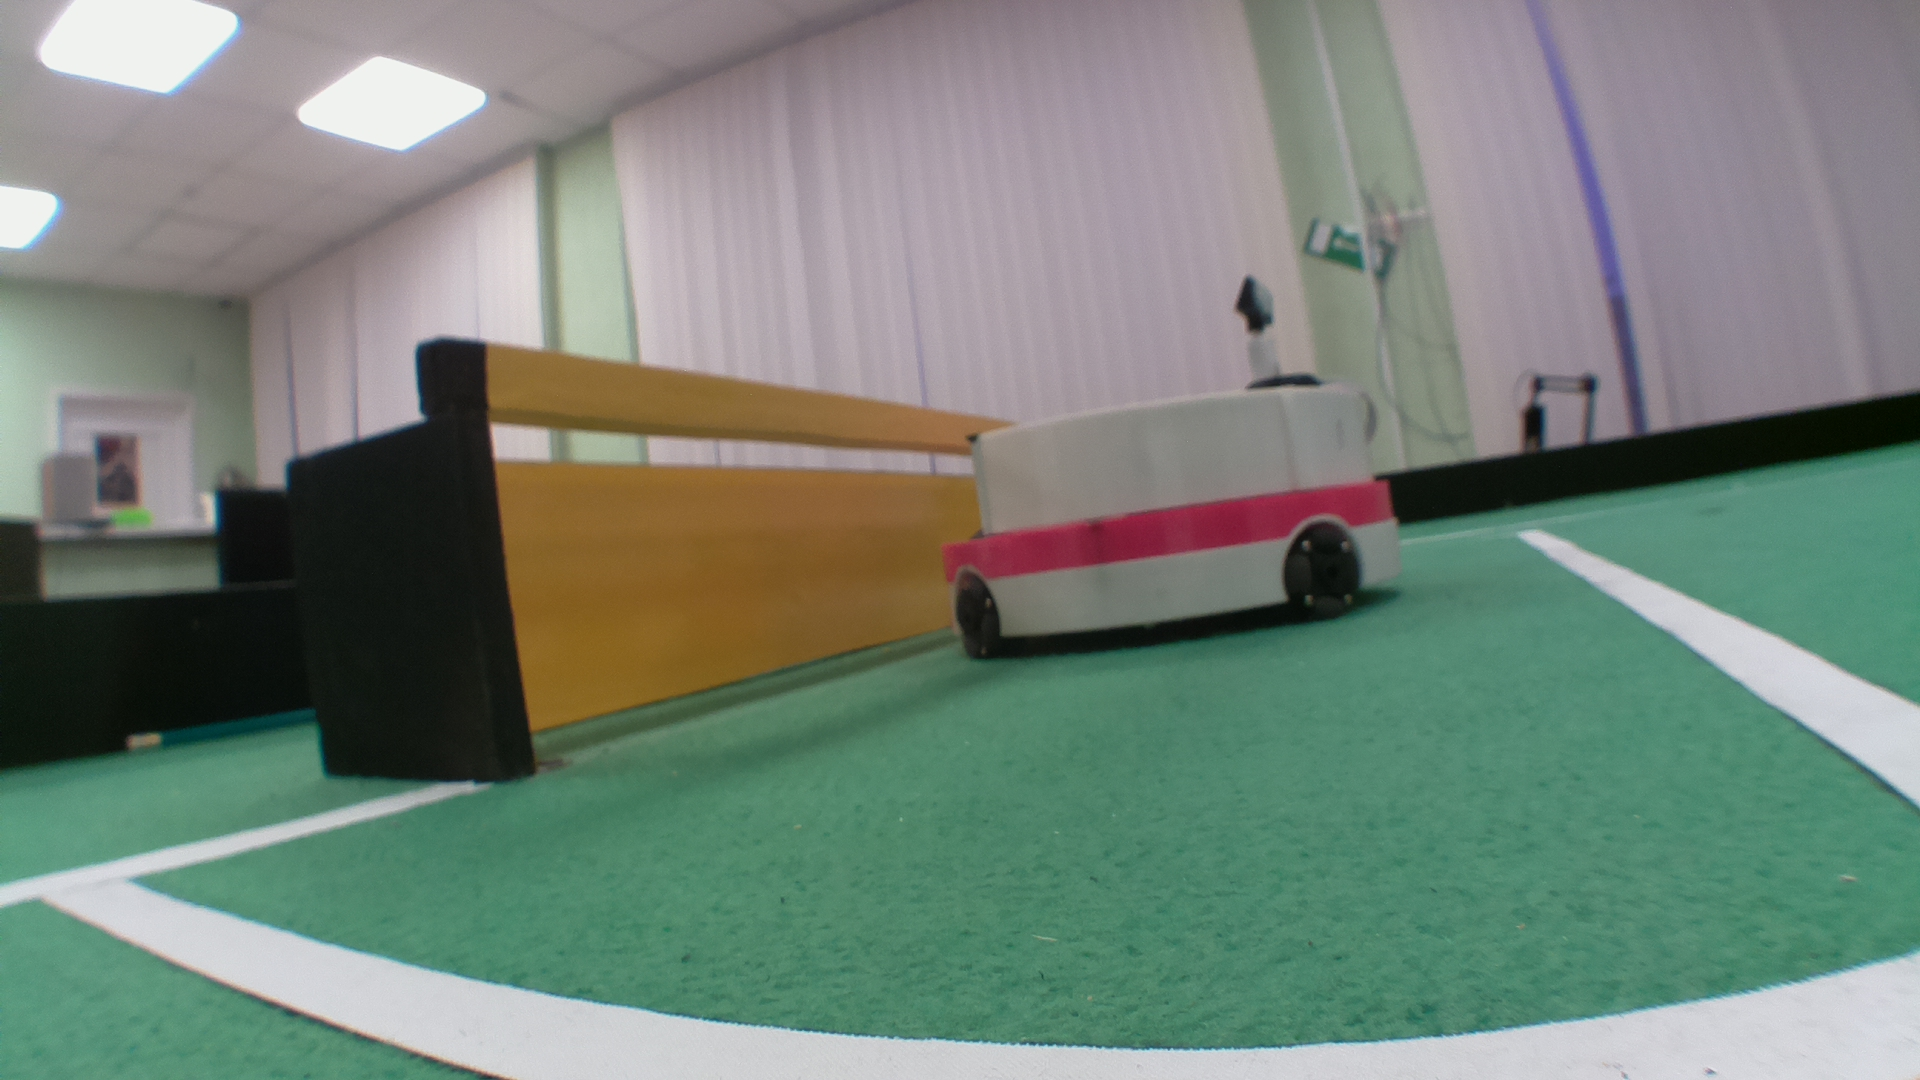YellowGoal: (484, 338, 992, 680)
